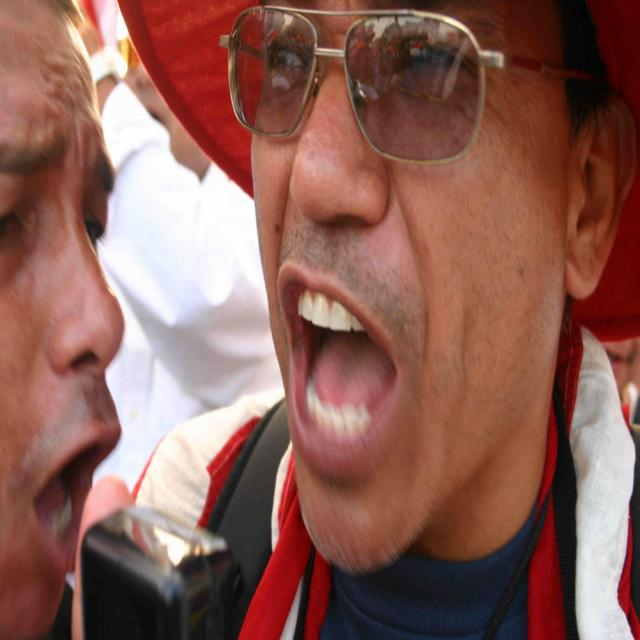Glasses: (216, 2, 608, 170)
